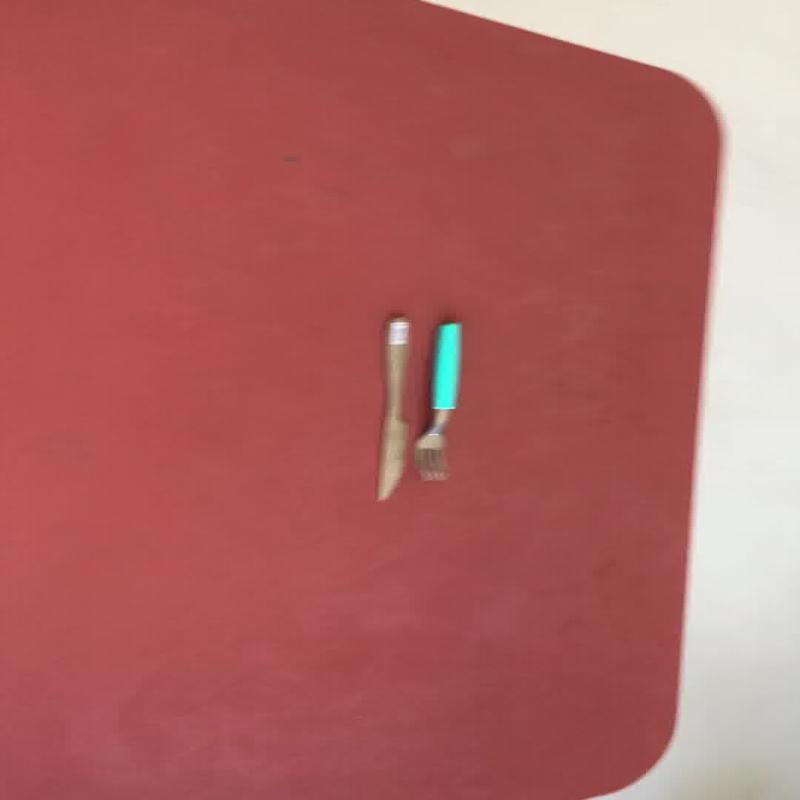fork: (412, 316, 462, 482)
knife: (372, 312, 410, 500)
